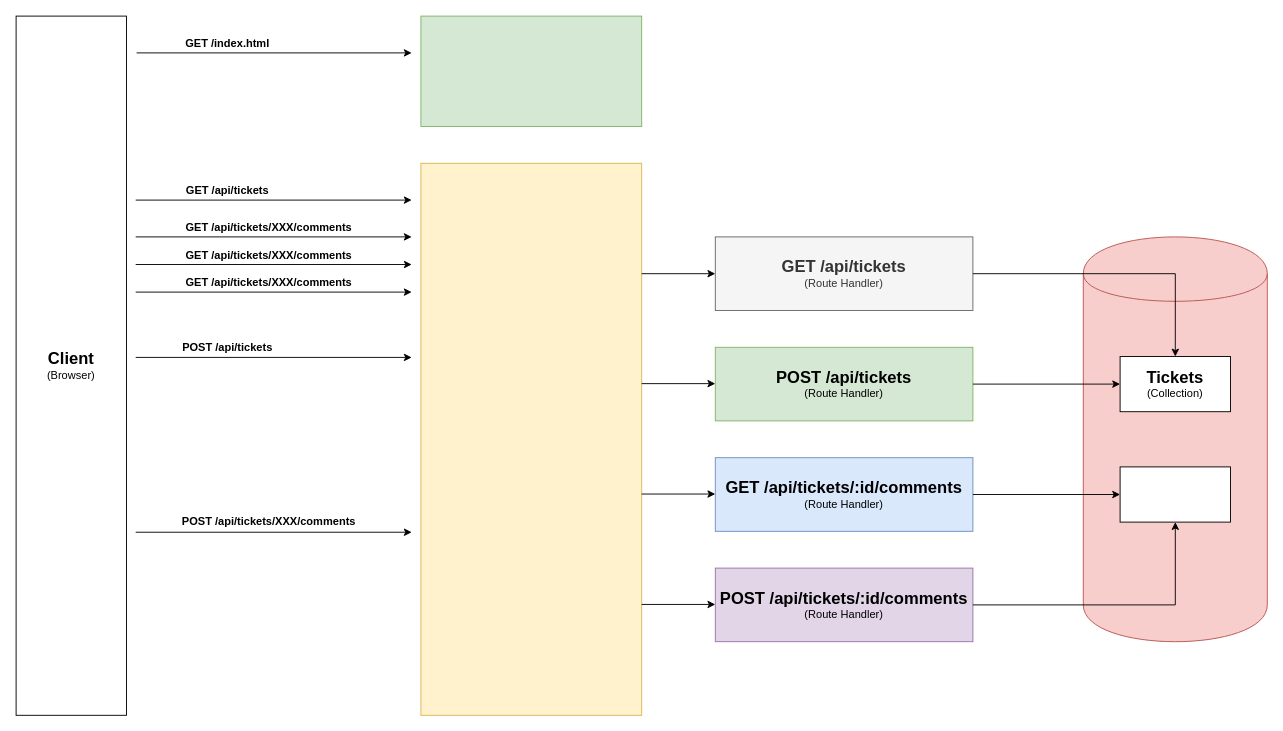
Image size: 1283x731. Some labels were removed from this diagram. Here are the shapes that lost their labels. From the top down, the centre of each, then its label:
[531,70]: Server (React App)
[531,438]: Server (Ticketing Backend)
[1174,494]: Comments (Collection)
